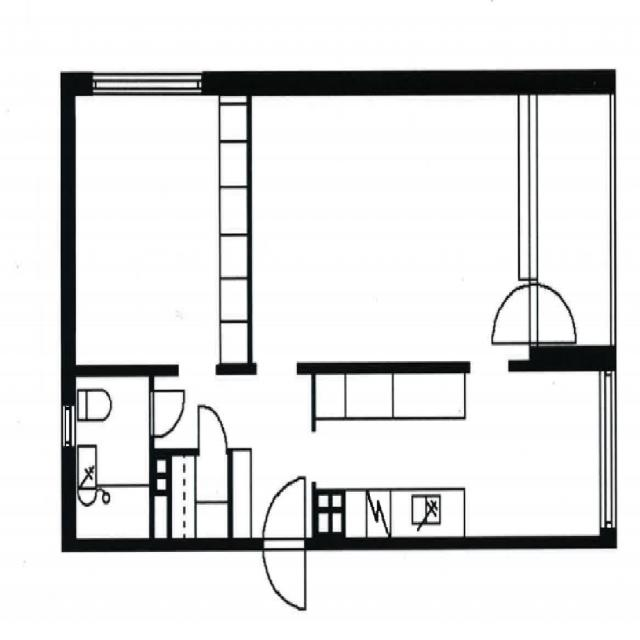door: (264, 472, 304, 548), (264, 534, 304, 610), (492, 286, 539, 340), (528, 286, 575, 340), (149, 390, 184, 435), (199, 405, 226, 456)
